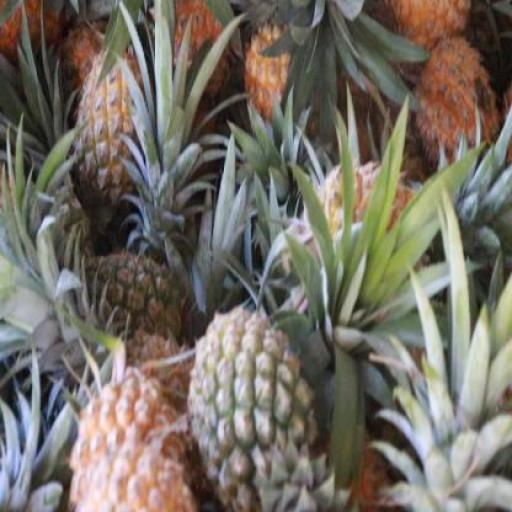------------------------------: (186, 307, 324, 511), (75, 56, 147, 214)
Pineapple - v8 v1: (409, 35, 499, 166), (379, 0, 469, 73)
